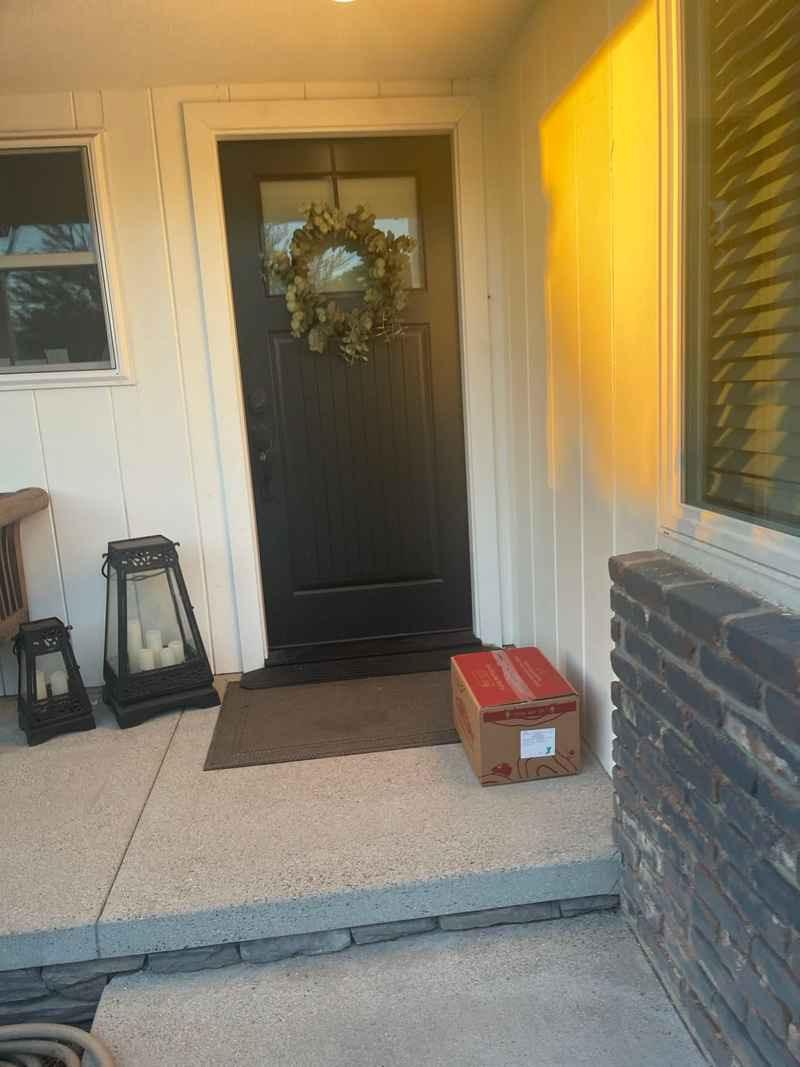package: (447, 648, 586, 789)
